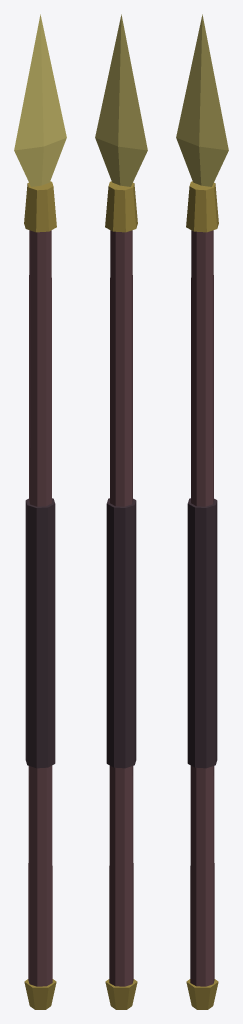
File: spear_gold.glb
3 views of the same model, side by side, from view 1: azimuth 30°, elevation 25°; view 2: azimuth 150°, elevation 25°; view 3: azimuth 330°, elevation 25° (orthographic).
Visible parts, largest first — view 1: Cone; view 2: Cone; view 3: Cone.
Part boxes in pixels (left/top/right/bottom): Cone: left=14, top=14, right=66, bottom=1009; Cone: left=95, top=14, right=147, bottom=1009; Cone: left=176, top=14, right=228, bottom=1009.
Bounding box in the file's own units: 0.34 × 6.1 × 0.19.
